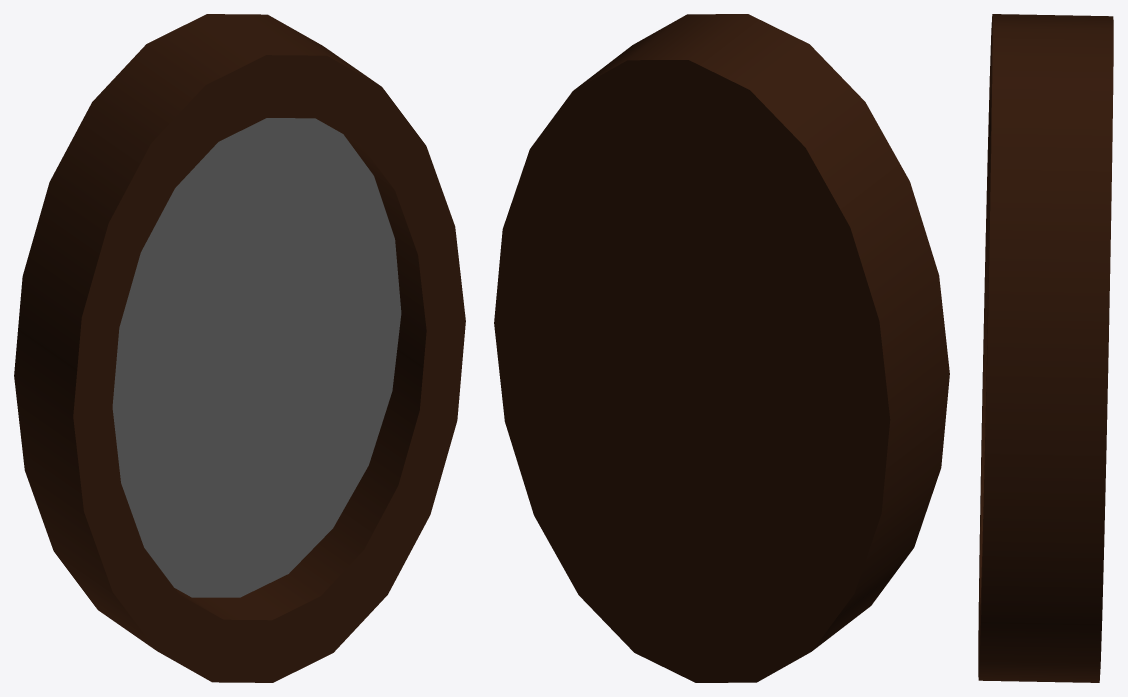
The model's file is round_frame.dae.
3 views of the same model, side by side, from view 1: azimuth 30°, elevation 25°; view 2: azimuth 150°, elevation 25°; view 3: azimuth 270°, elevation 25° (orthographic). The views are drawn at different scales.
Visible parts, largest first — view 1: pCylinder1, pDisc1; view 2: pCylinder1; view 3: pCylinder1.
Boxes of the visible parts, bbox=[...] form: pCylinder1: bbox=[14, 14, 465, 682]; pDisc1: bbox=[112, 118, 401, 597]; pCylinder1: bbox=[494, 14, 949, 682]; pCylinder1: bbox=[978, 14, 1113, 682].
Size of the model in its own units: 2 by 3.04 by 0.5842.
